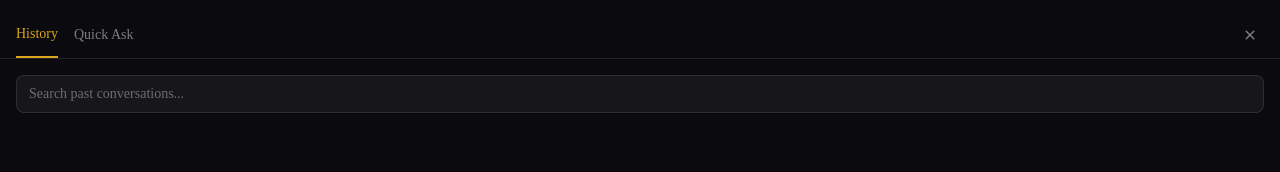
Test: ChatSearch › switching to quick-ask tab shows ask input
Click the tab "Quick Ask": click(104, 35) left=74, top=12, right=134, bottom=58
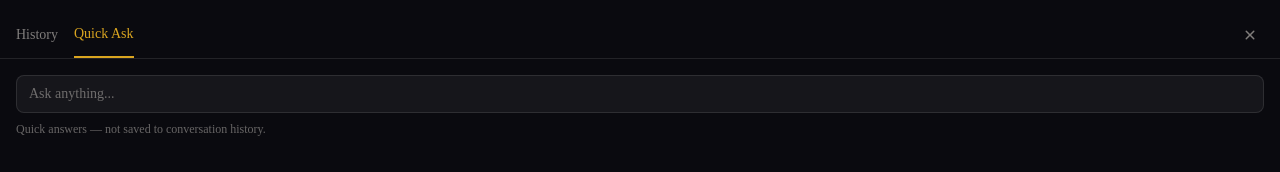
Check: the field with placeholder "Ask anything..." is shown, box left=16, top=75, right=1264, bottom=113
